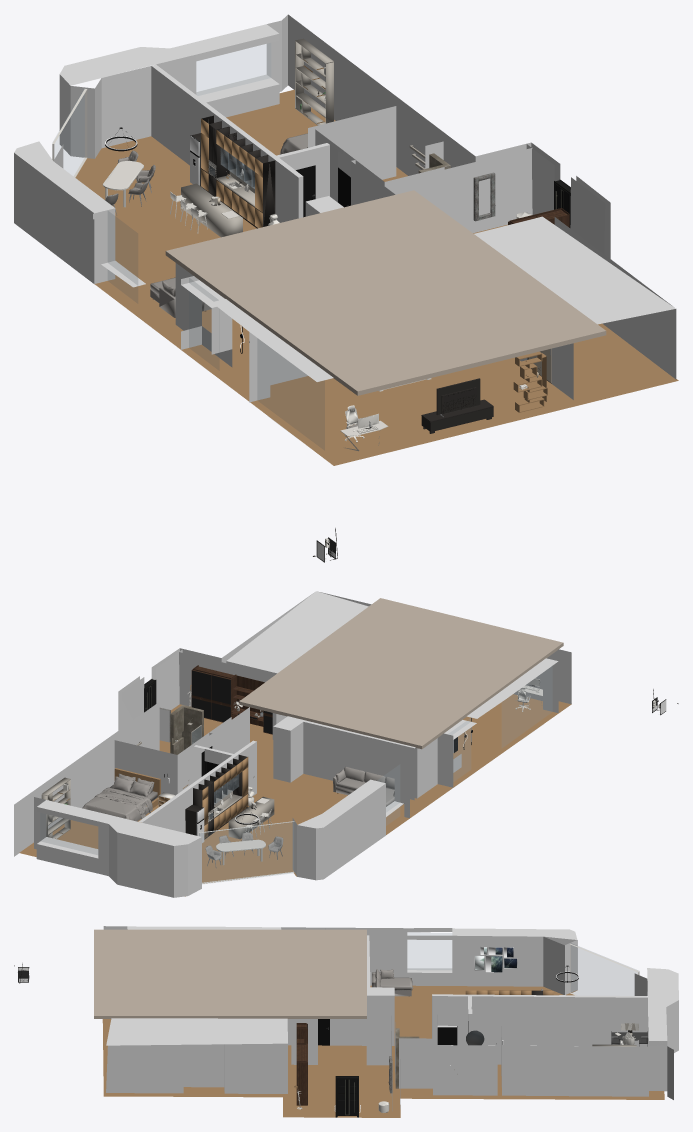
Rendered from AAELS-mobile.glb.
3 renders of one model, top to bottom at view 1: azimuth 30°, elevation 25°; view 2: azimuth 150°, elevation 25°; view 3: azimuth 270°, elevation 25°, orthographic. The views are drawn at different scales.
Visible parts, largest first — view 1: AAELS_MOBILE_DECOR, AAELS_MOBILE_ARCHITECTURE, Куб.003; view 2: AAELS_MOBILE_DECOR, AAELS_MOBILE_ARCHITECTURE; view 3: AAELS_MOBILE_DECOR, AAELS_MOBILE_ARCHITECTURE.
Boxes of the visible parts, box(x1,y1,x2,y2) form: AAELS_MOBILE_DECOR: box(14, 14, 678, 560); AAELS_MOBILE_ARCHITECTURE: box(165, 135, 606, 562); Куб.003: box(473, 172, 495, 221); AAELS_MOBILE_DECOR: box(14, 591, 678, 897); AAELS_MOBILE_ARCHITECTURE: box(144, 598, 666, 842); AAELS_MOBILE_DECOR: box(14, 926, 678, 1117); AAELS_MOBILE_ARCHITECTURE: box(18, 929, 517, 1117).
Size of the model in its own units: 14.01 by 3.05 by 23.14.
67 materials, 12 textured.
